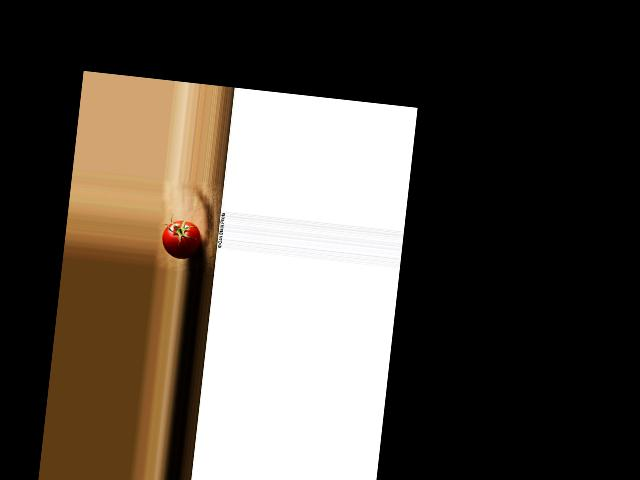tomato: (161, 218, 202, 260)
